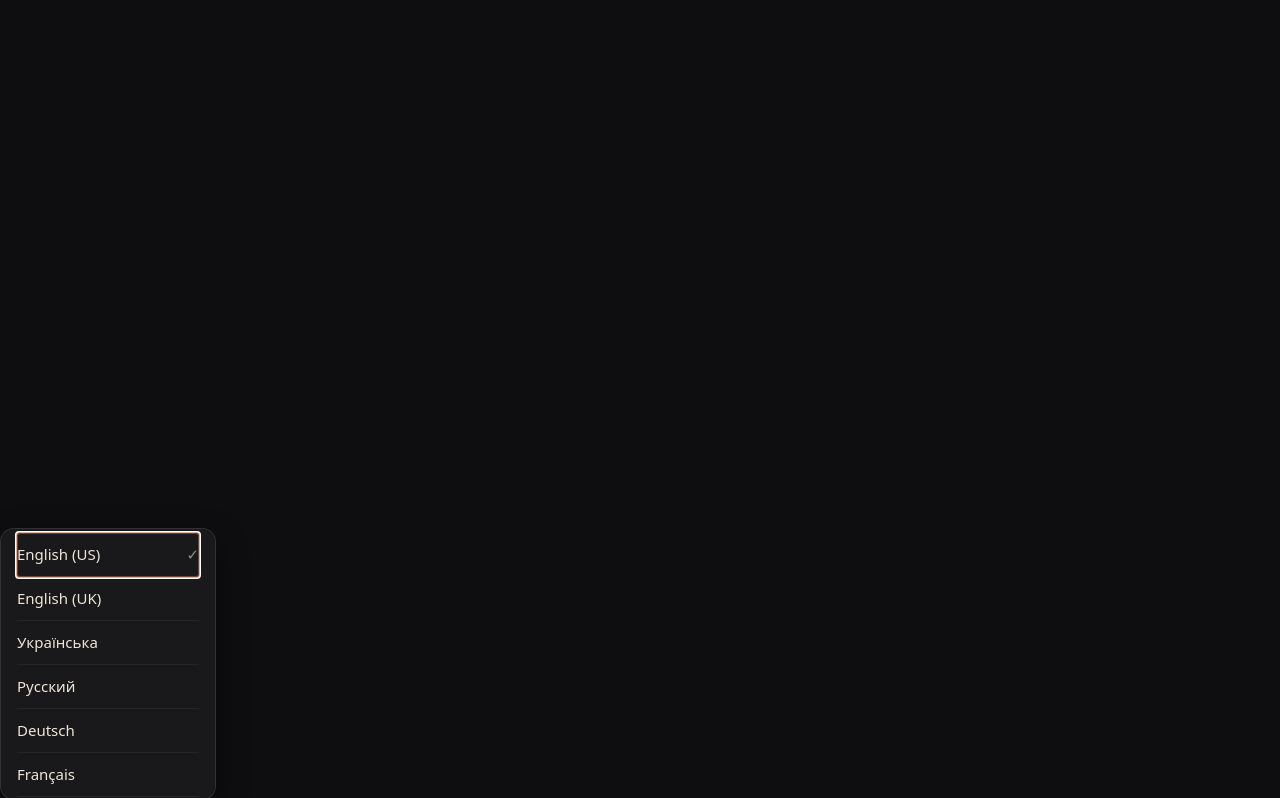
Test case: a failed action keeps the sheet open with translated feedback
(page scrolled)
Click the button "Українська". click: (108, 643)
box: 17,621 -> 199,665
(page scrolled)
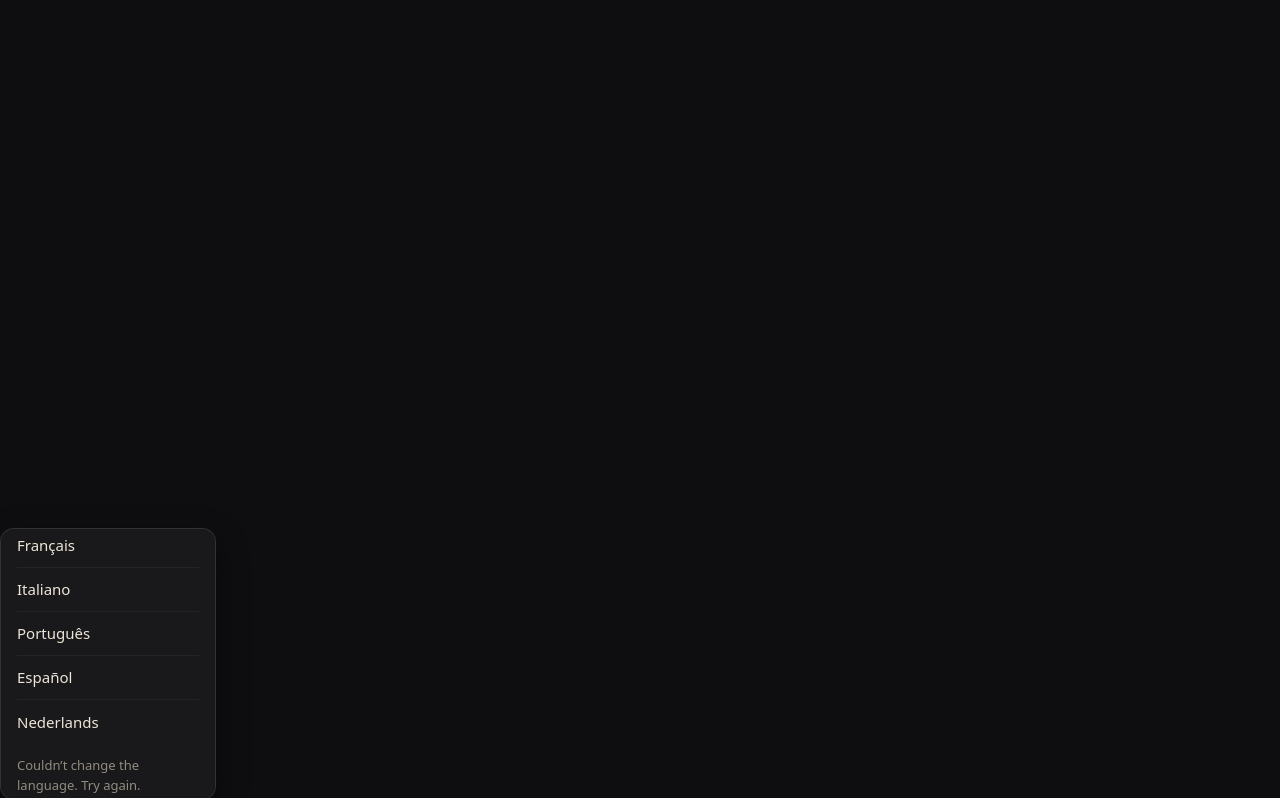
Check: the message reads "Couldn’t change the language. Try again.", box 17,756 -> 141,794
